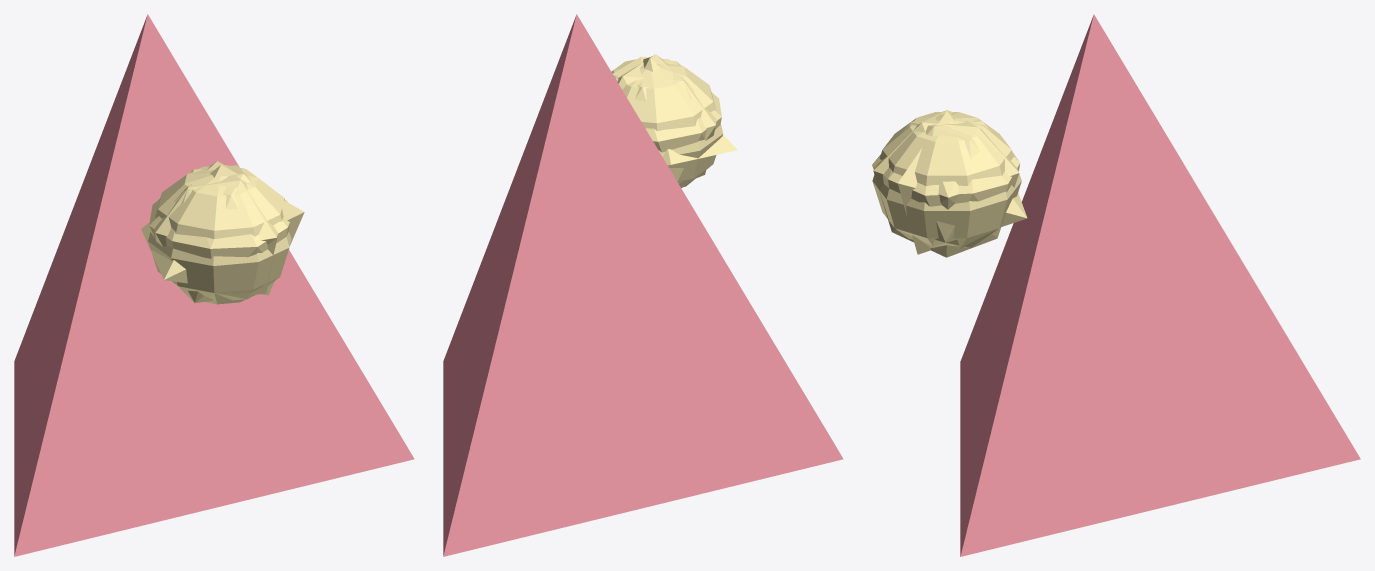
The model's file is SM_Runner.fbx.
3 views of the same model, side by side, from view 1: azimuth 30°, elevation 25°; view 2: azimuth 150°, elevation 25°; view 3: azimuth 270°, elevation 25° (orthographic).
Parts seen in each view (by area): view 1: LOD1_SM_Runner, SM_Runner, LOD2_SM_Runner, LOD3_SM_Runner; view 2: LOD1_SM_Runner, SM_Runner, LOD2_SM_Runner, LOD3_SM_Runner; view 3: LOD1_SM_Runner, SM_Runner, LOD2_SM_Runner, LOD3_SM_Runner.
Boxes of the visible parts, x1,y1,x2,y2 form: LOD1_SM_Runner: (14,14,414,556); SM_Runner: (148,165,291,304); LOD2_SM_Runner: (155,161,287,302); LOD3_SM_Runner: (141,165,304,295); LOD1_SM_Runner: (443,14,843,556); SM_Runner: (611,59,723,187); LOD2_SM_Runner: (617,54,716,184); LOD3_SM_Runner: (643,57,737,165); LOD1_SM_Runner: (872,14,1360,556); SM_Runner: (872,112,1021,248); LOD2_SM_Runner: (873,110,1019,257); LOD3_SM_Runner: (898,111,1027,254).
Size of the model in its own units: 0.3118 by 0.3312 by 0.3296.
